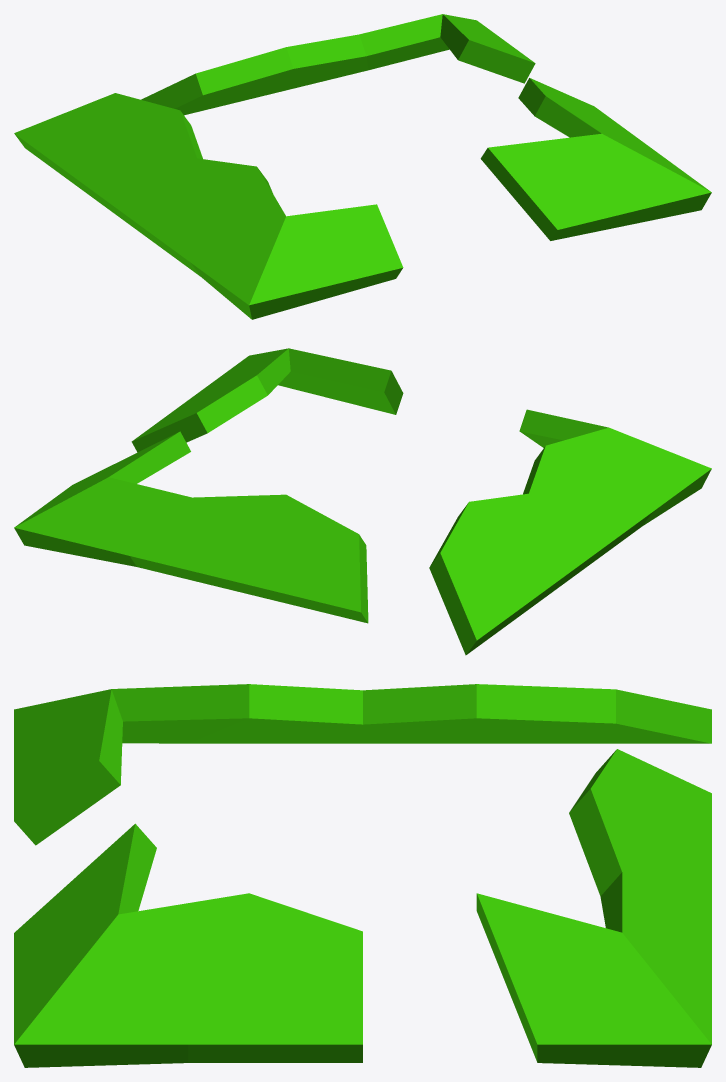
Rendered from green9.obj.
3 renders of one model, top to bottom at view 1: azimuth 30°, elevation 25°; view 2: azimuth 150°, elevation 25°; view 3: azimuth 270°, elevation 25°, orthographic. The views are drawn at different scales.
Parts seen in each view (by area): view 1: plilla0.011; view 2: plilla0.011; view 3: plilla0.011.
Part boxes in pixels (x1=…): plilla0.011: x1=14, y1=14, x2=711, y2=319; plilla0.011: x1=14, y1=348, x2=711, y2=655; plilla0.011: x1=14, y1=684, x2=711, y2=1067.
Bounding box in the file's own units: 1.38 × 0.2228 × 1.21.
